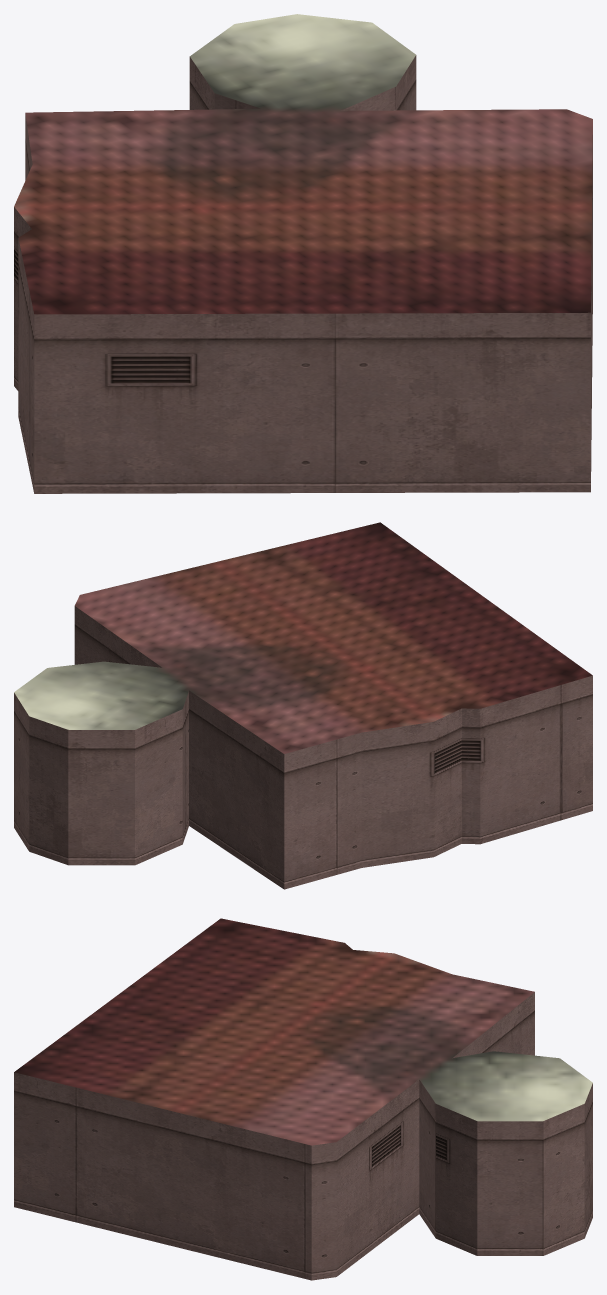
Rendered from legacy_barn.glb.
3 renders of one model, top to bottom at view 1: azimuth 30°, elevation 25°; view 2: azimuth 150°, elevation 25°; view 3: azimuth 270°, elevation 25°, orthographic. The views are drawn at different scales.
Visible parts, largest first — view 1: buildings/saxarba/building_single/legacy_barn; view 2: buildings/saxarba/building_single/legacy_barn; view 3: buildings/saxarba/building_single/legacy_barn.
Boxes of the visible parts, <box> form: buildings/saxarba/building_single/legacy_barn: <box>14,14,592,493</box>; buildings/saxarba/building_single/legacy_barn: <box>14,522,592,889</box>; buildings/saxarba/building_single/legacy_barn: <box>14,918,592,1280</box>.
Size of the model in its own units: 65 by 18 by 70.
